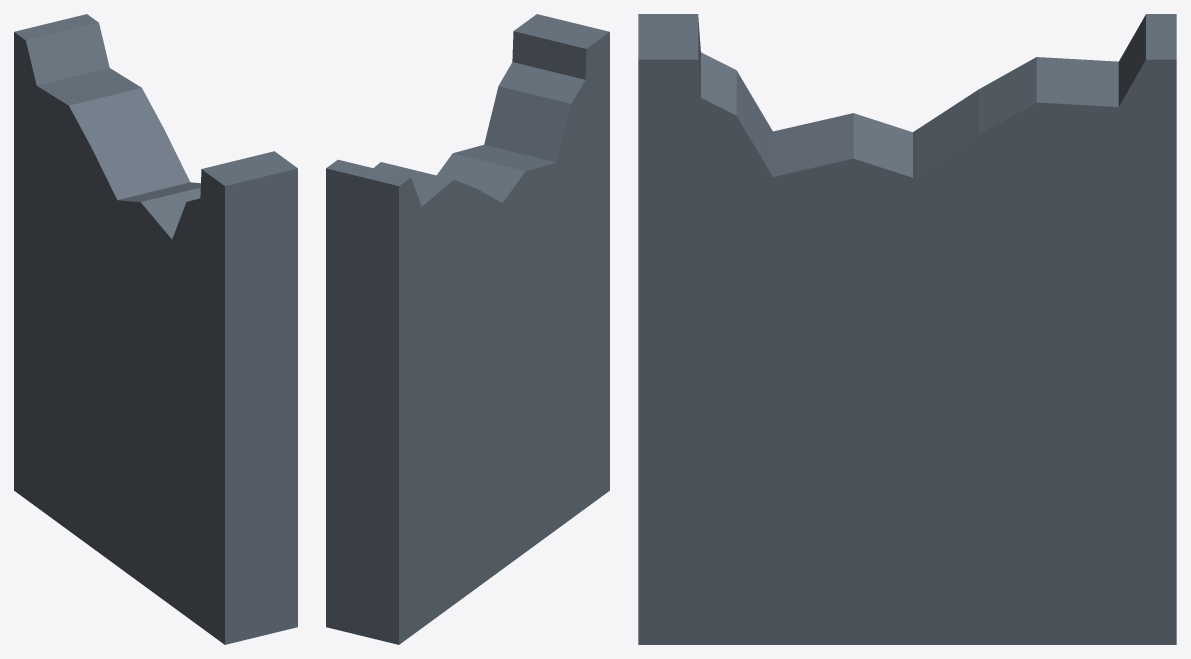
File: Wall_D_2_1.obj
3 views of the same model, side by side, from view 1: azimuth 30°, elevation 25°; view 2: azimuth 150°, elevation 25°; view 3: azimuth 270°, elevation 25° (orthographic). The views are drawn at different scales.
Visible parts, largest first — view 1: Wall_D_2_1; view 2: Wall_D_2_1; view 3: Wall_D_2_1.
Boxes of the visible parts, box(x1,y1,x2,y2) form: Wall_D_2_1: box(14, 14, 297, 644); Wall_D_2_1: box(326, 14, 609, 644); Wall_D_2_1: box(638, 14, 1176, 644).
Bounding box in the file's own units: 0.4 × 2.4 × 2.
